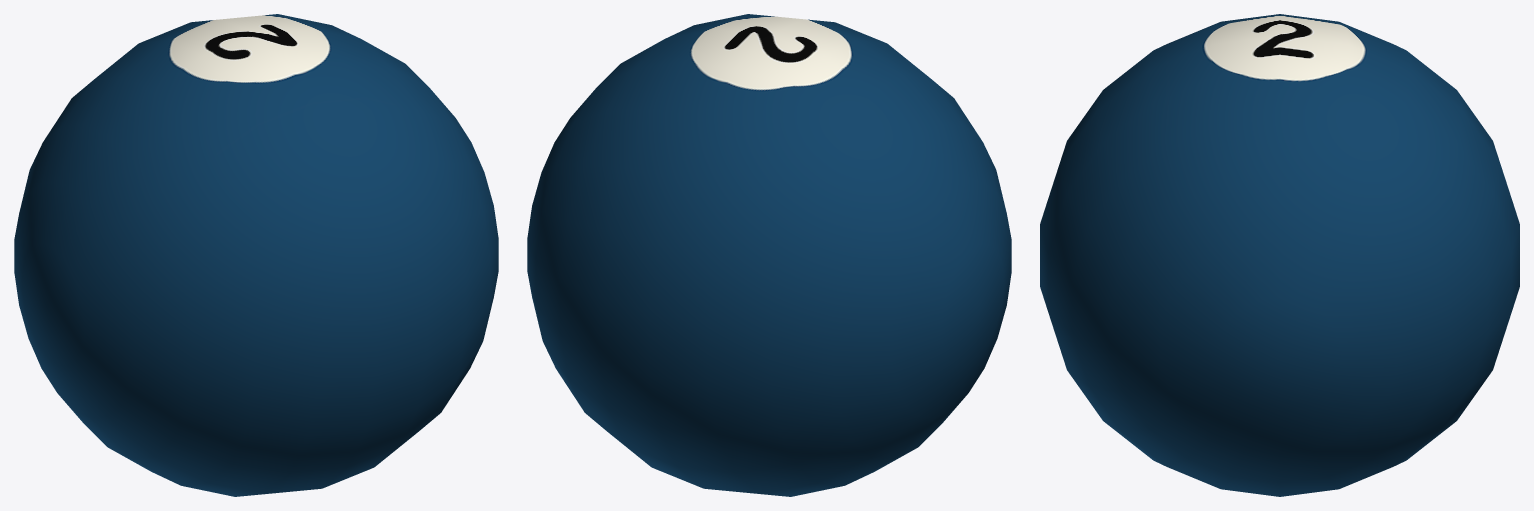
Rendered from Pool_Ball_02.fbx.
3 views of the same model, side by side, from view 1: azimuth 30°, elevation 25°; view 2: azimuth 150°, elevation 25°; view 3: azimuth 270°, elevation 25° (orthographic).
Visible parts, largest first — view 1: Pool_Ball_02; view 2: Pool_Ball_02; view 3: Pool_Ball_02.
Part boxes in pixels (bbox=[...]): Pool_Ball_02: bbox=[14, 14, 498, 496]; Pool_Ball_02: bbox=[527, 14, 1011, 496]; Pool_Ball_02: bbox=[1040, 14, 1519, 496].
Size of the model in its own units: 0.051 by 0.051 by 0.0505.
